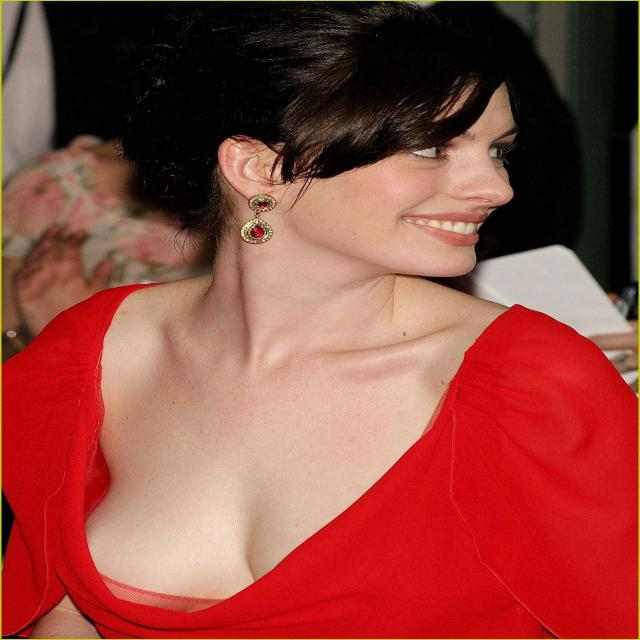no-earmuff: (200, 121, 318, 232)
